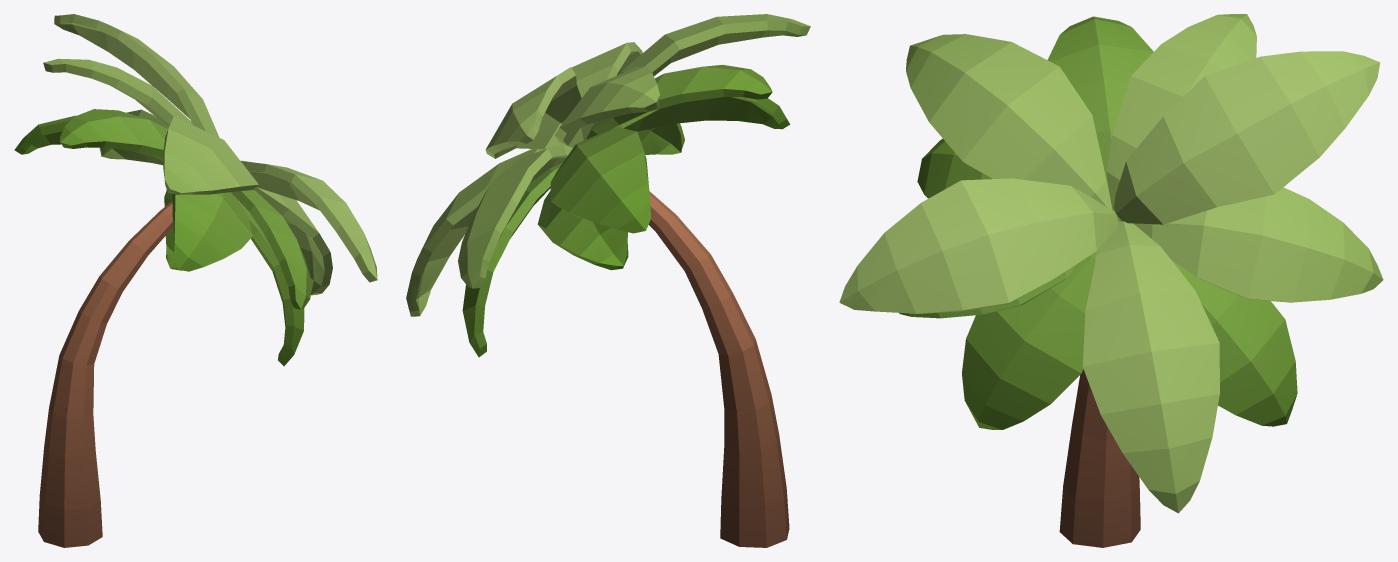
The model's file is palm tree tilted.fbx.
The picture shows the model from 3 angles, left to right: view 1: azimuth 30°, elevation 25°; view 2: azimuth 150°, elevation 25°; view 3: azimuth 270°, elevation 25°; orthographic projection. The views are drawn at different scales.
Parts seen in each view (by area): view 1: palm tree tilted; view 2: palm tree tilted; view 3: palm tree tilted.
Boxes of the visible parts, left/top/right/bottom form: palm tree tilted: left=14, top=14, right=377, bottom=547; palm tree tilted: left=406, top=14, right=810, bottom=547; palm tree tilted: left=839, top=14, right=1383, bottom=547.
Size of the model in its own units: 504 by 673 by 608.
